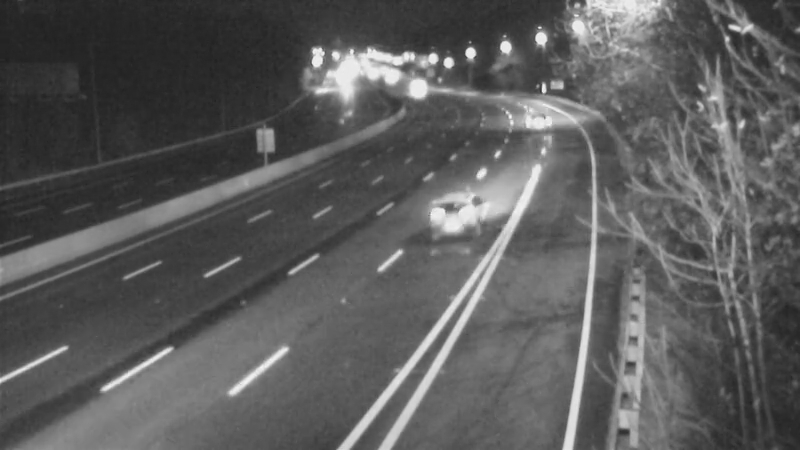vehicle: (407, 175, 487, 255), (384, 59, 434, 109), (393, 69, 443, 119), (519, 99, 569, 149)
